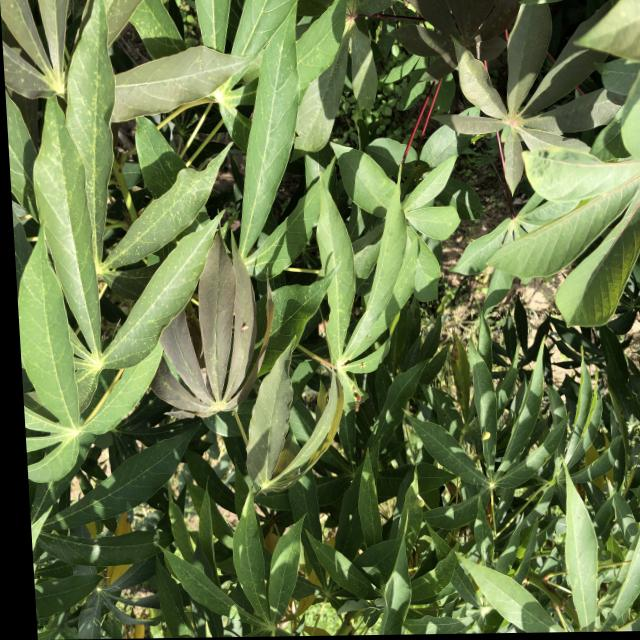Mosca: (477, 428, 496, 445), (358, 359, 374, 374), (237, 318, 250, 336), (349, 389, 362, 405)
